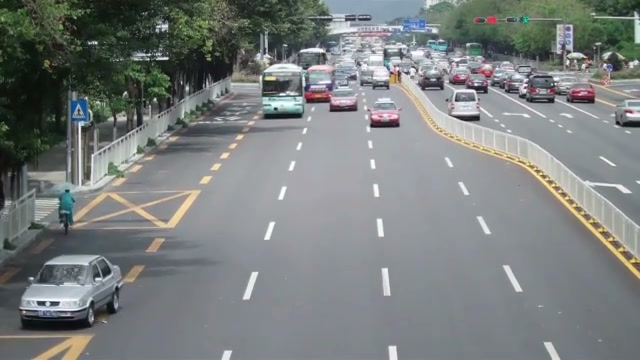bus: (261, 62, 306, 119), (305, 64, 335, 102), (298, 47, 327, 70)
car: (18, 254, 125, 328), (447, 89, 481, 120), (521, 75, 557, 103), (368, 98, 402, 127), (613, 99, 640, 127), (329, 86, 359, 111), (567, 83, 596, 103), (420, 69, 445, 90), (466, 73, 489, 93), (503, 74, 526, 92), (450, 69, 471, 85)
pedestrian: (58, 187, 75, 229)
truck: (371, 66, 391, 89)
